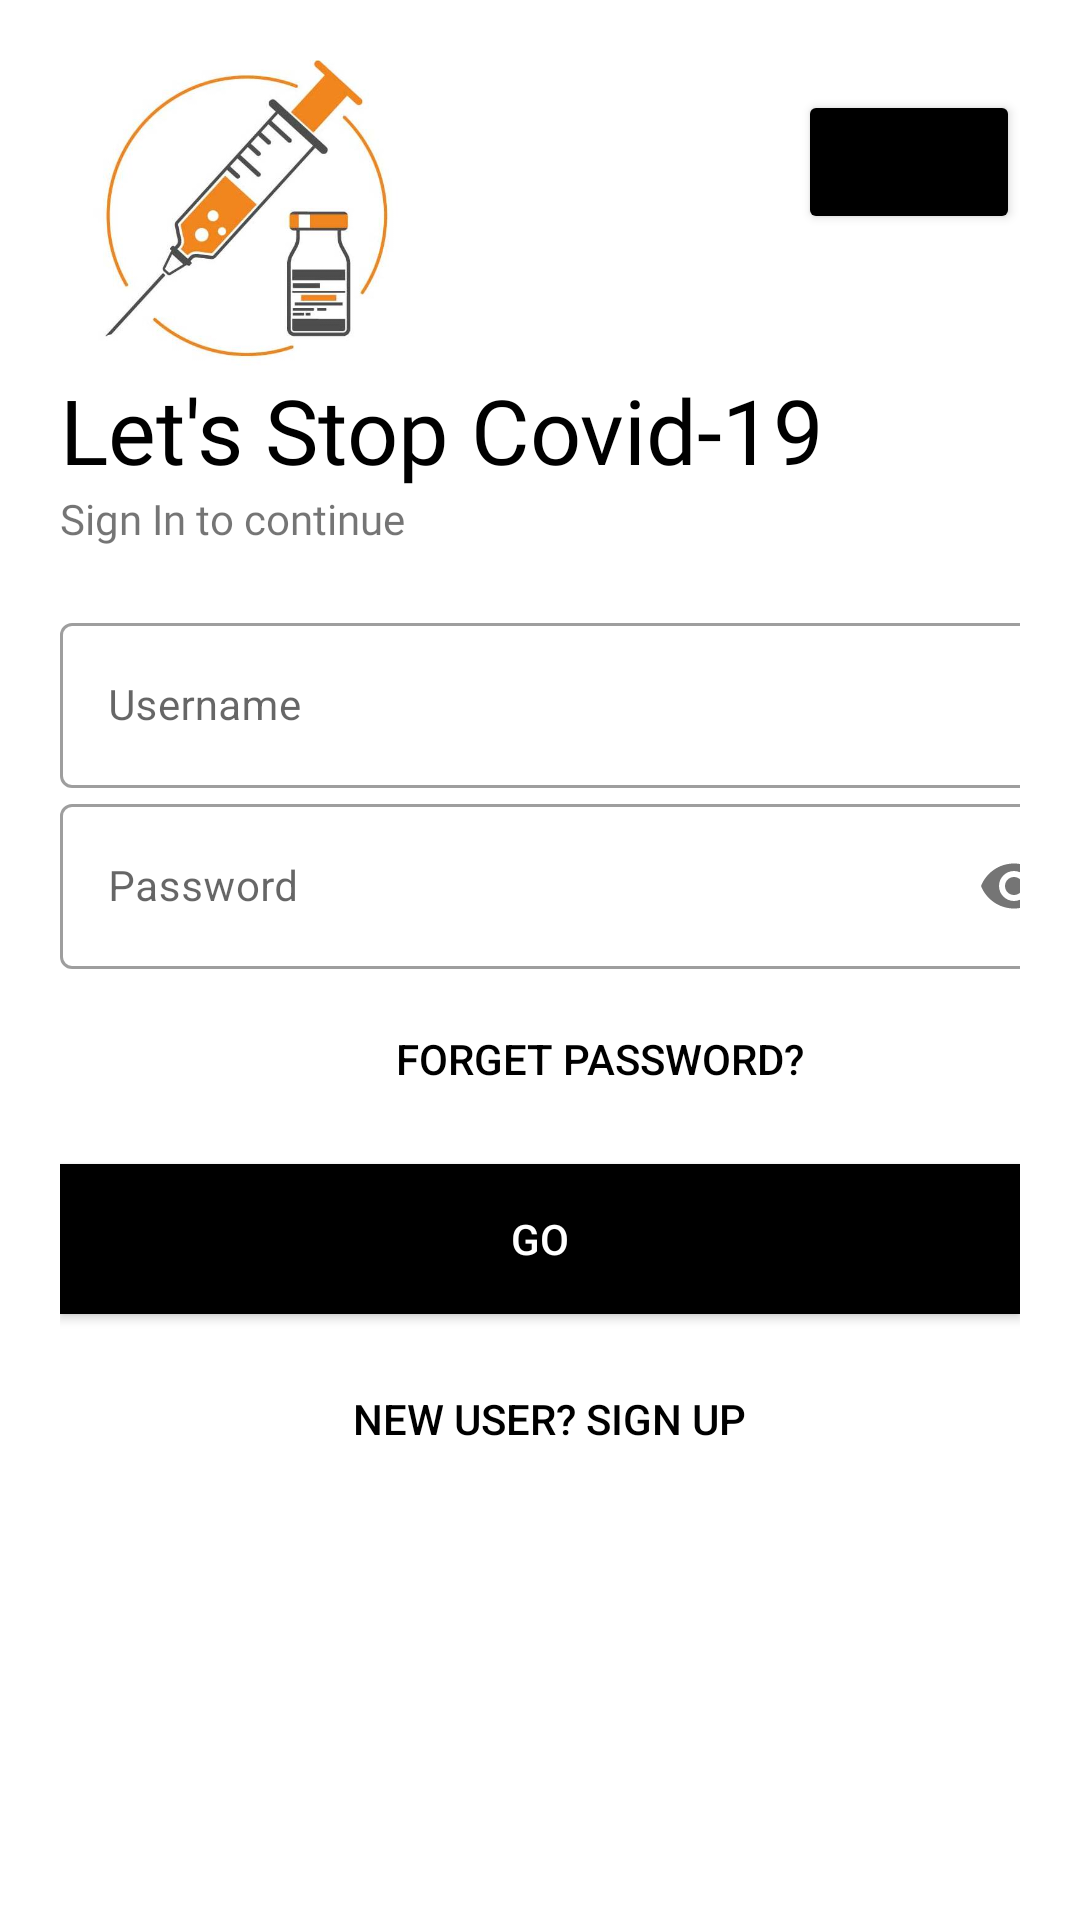

Icons on this 1080w x 1920h Android screen, each with its box as (x1, y1, x2, y2):
vacbacrop: (105, 60, 388, 357)
